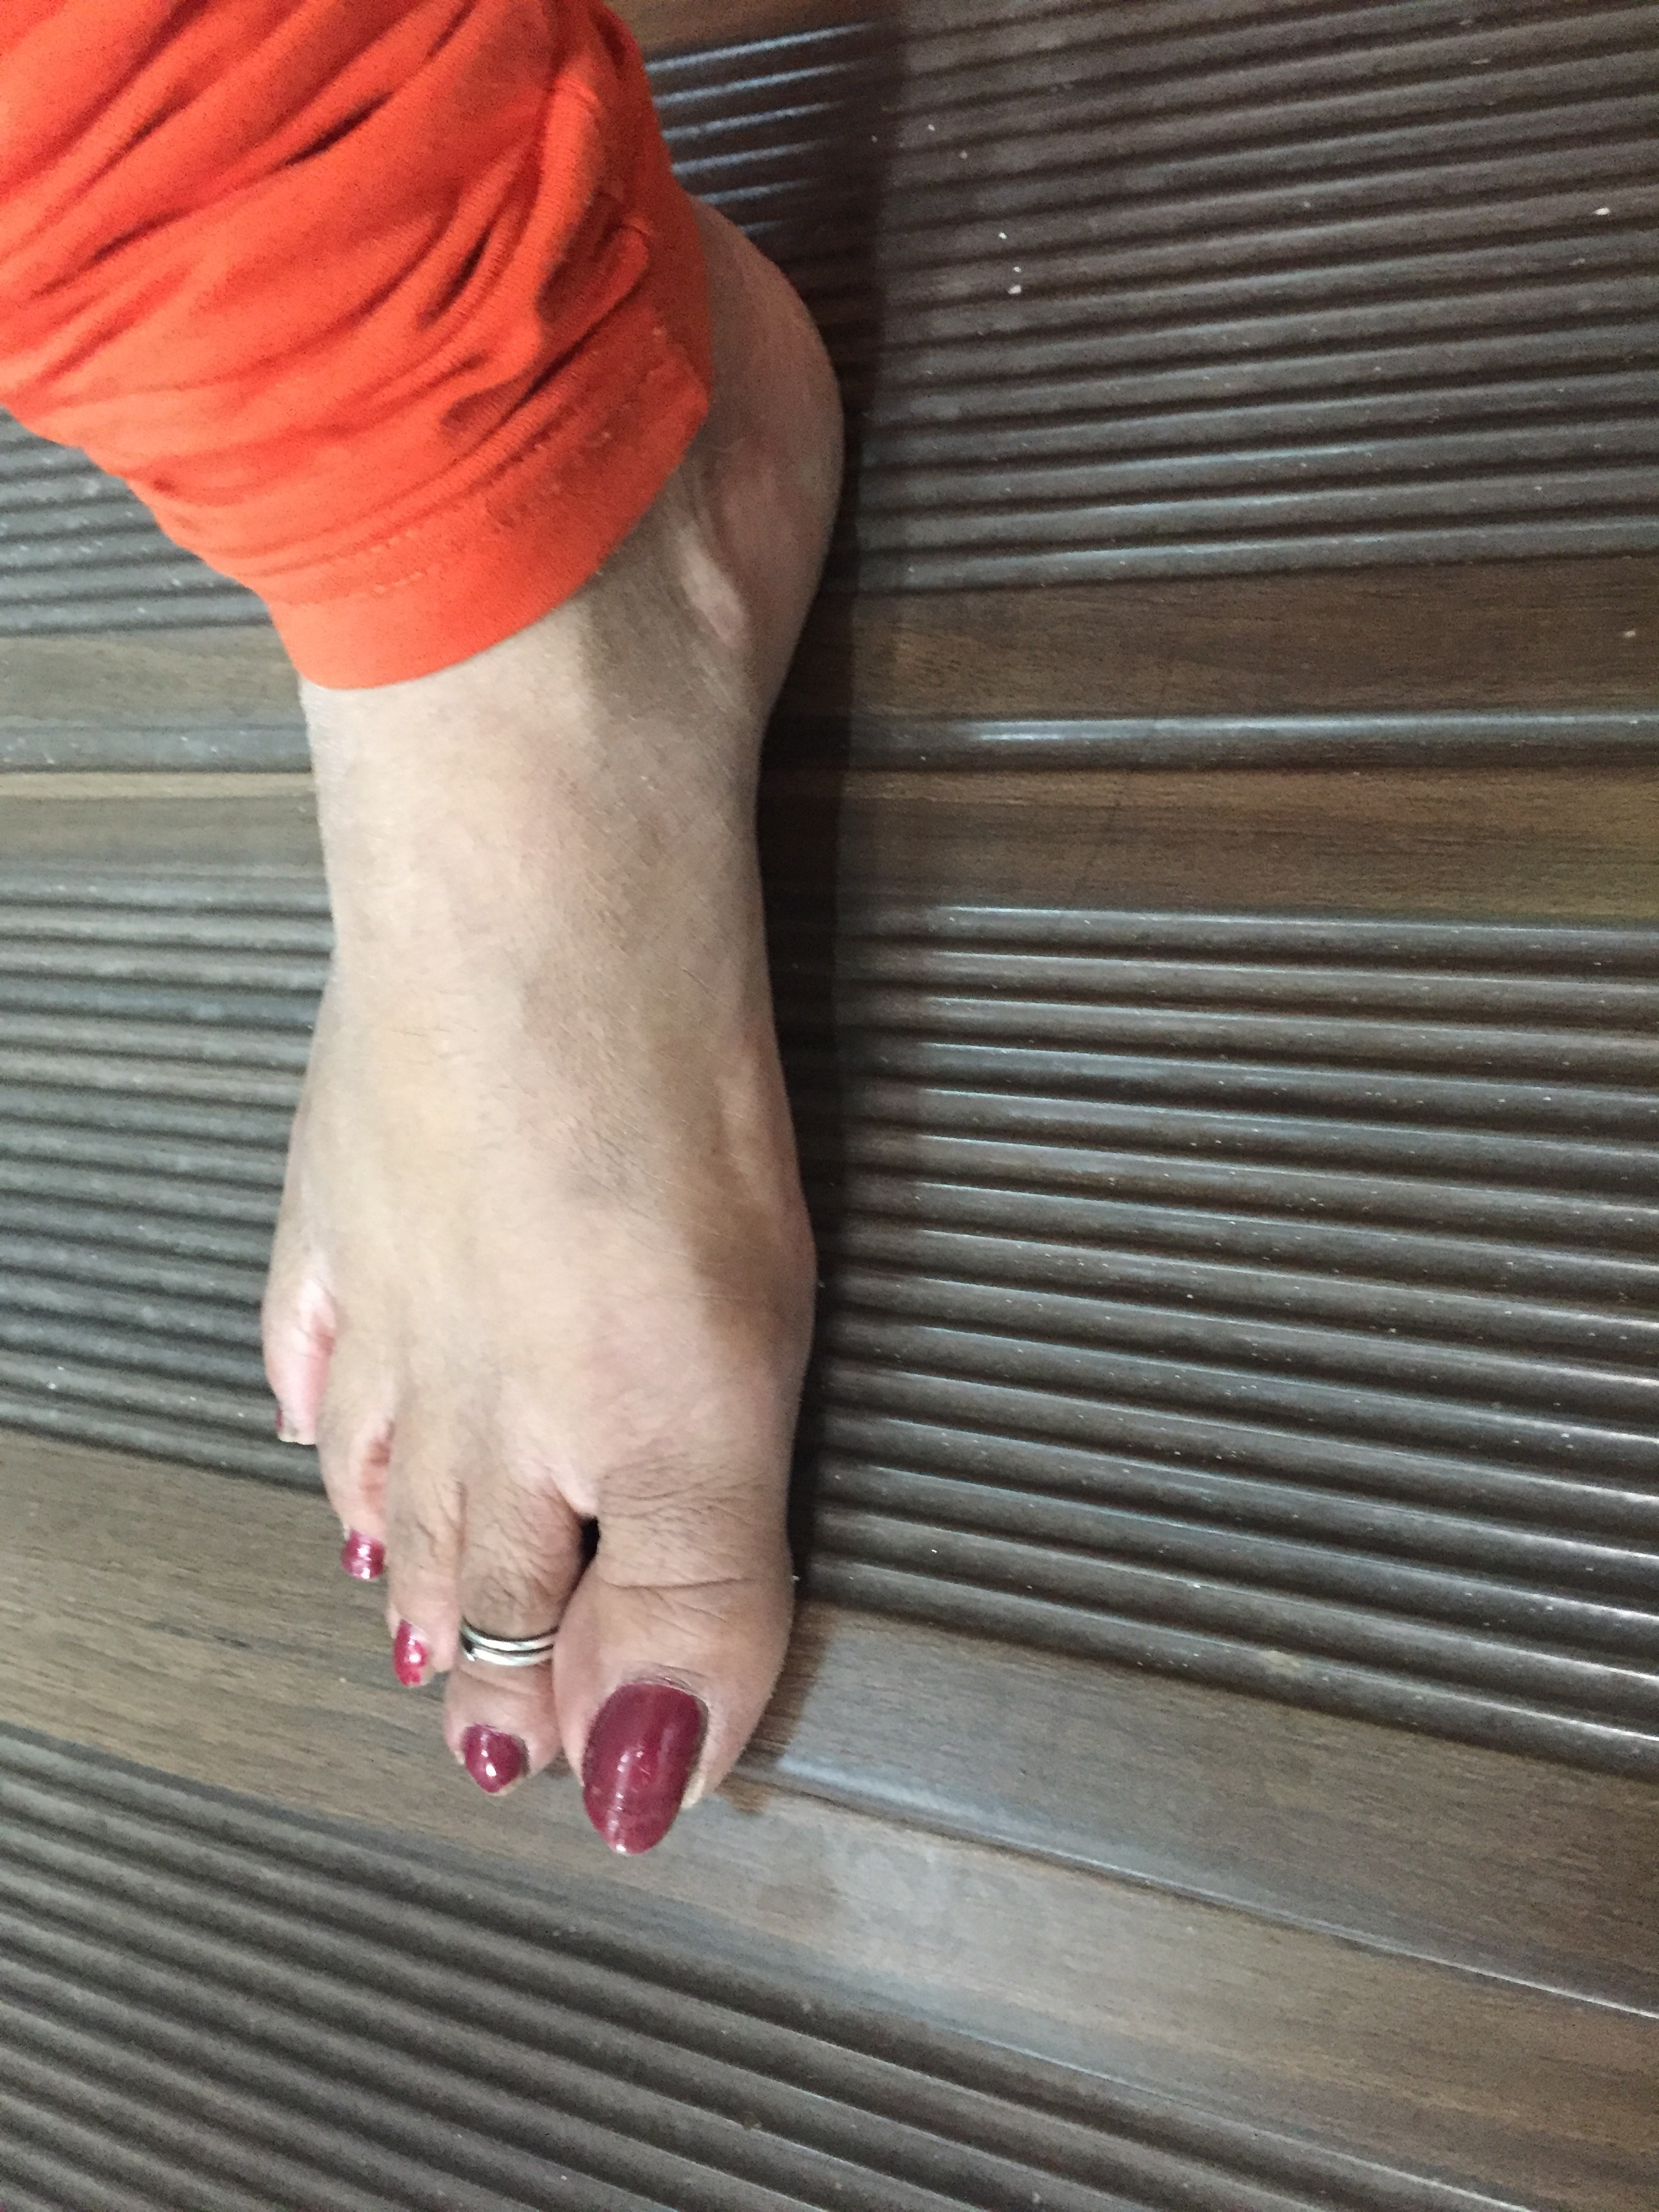feet: (92, 242, 864, 1869)
